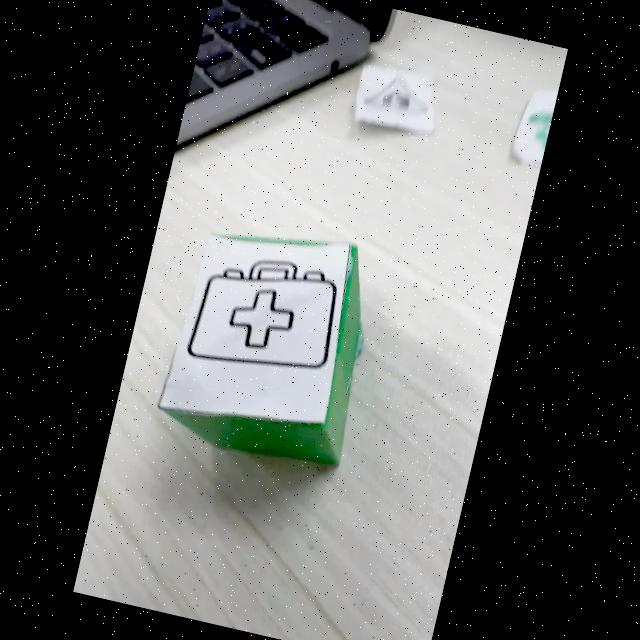Medkit: (186, 259, 336, 369)
